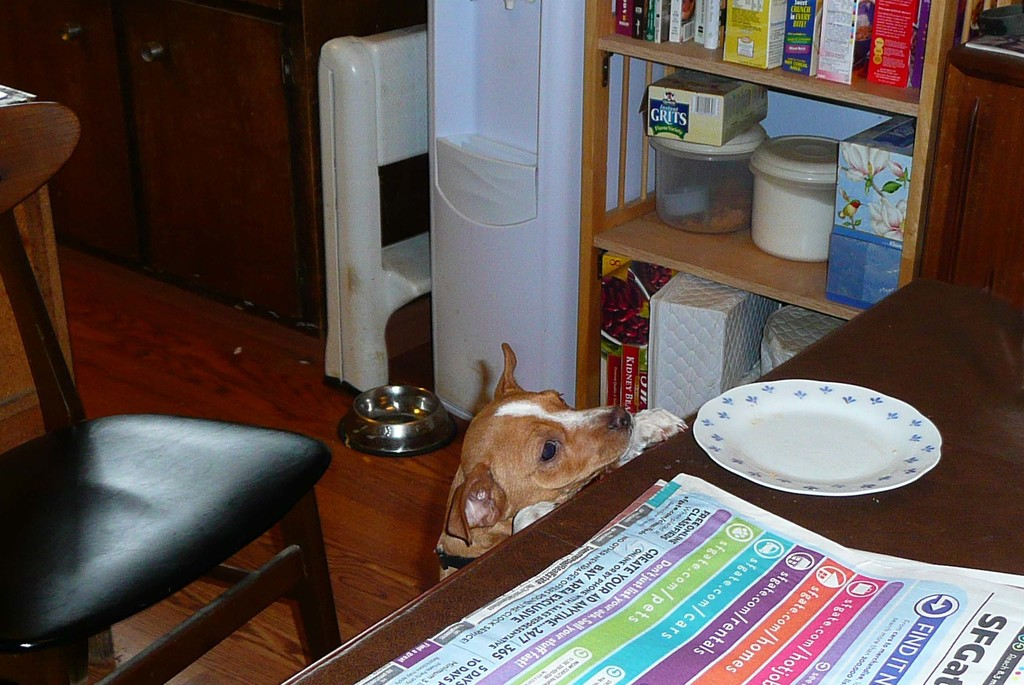plate: (685, 373, 940, 501)
